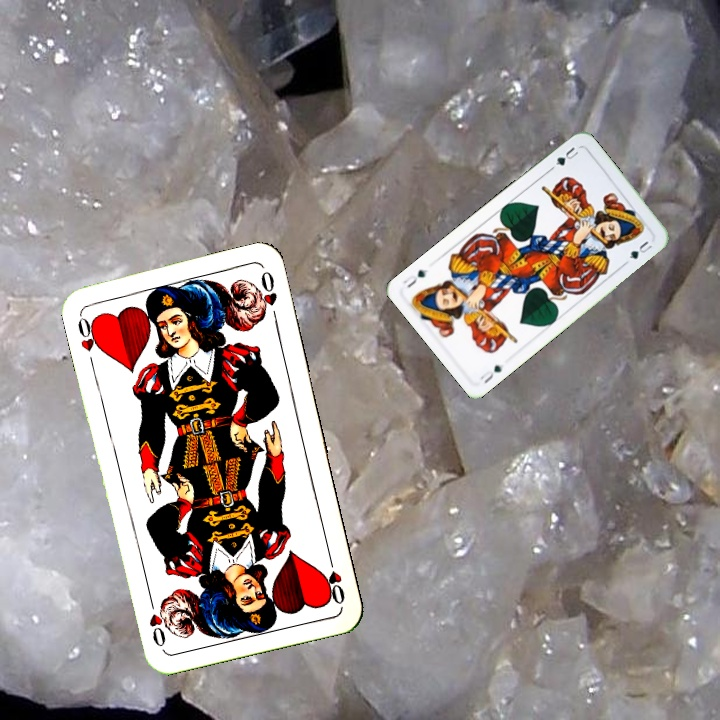GU: (547, 143, 581, 172), (476, 361, 505, 386)
HO: (321, 549, 348, 608), (73, 310, 105, 355)
